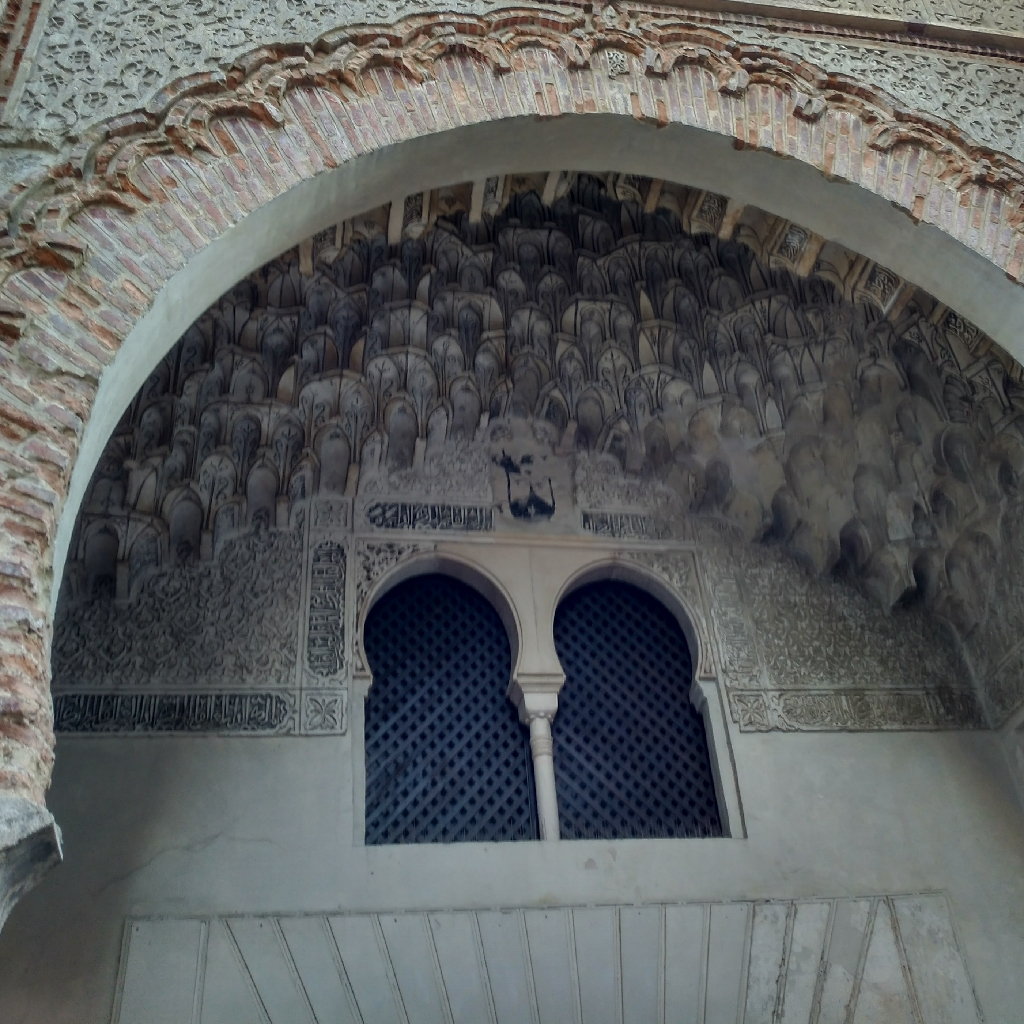arco-herradura: (355, 540, 542, 712), (543, 550, 713, 711)
dintel-adovelado: (216, 891, 885, 1024)
